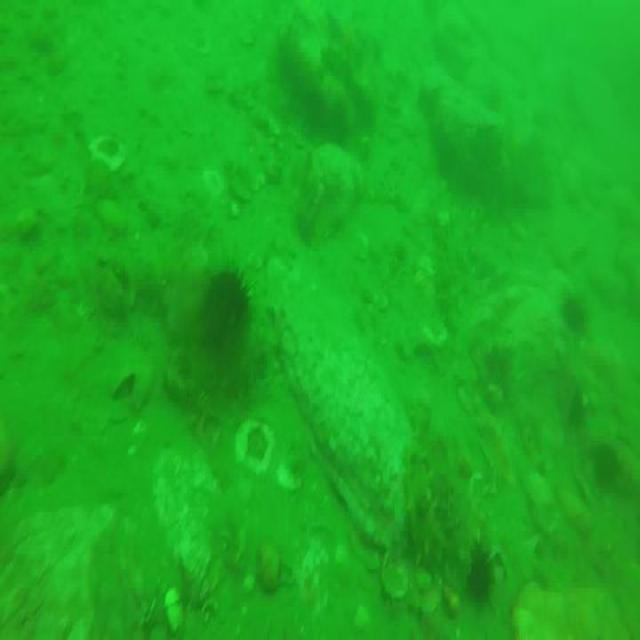echinus: (197, 267, 250, 356), (468, 552, 494, 605), (560, 289, 588, 338)
holothurian: (404, 447, 446, 571)
scallop: (88, 128, 130, 174), (234, 420, 271, 471)
